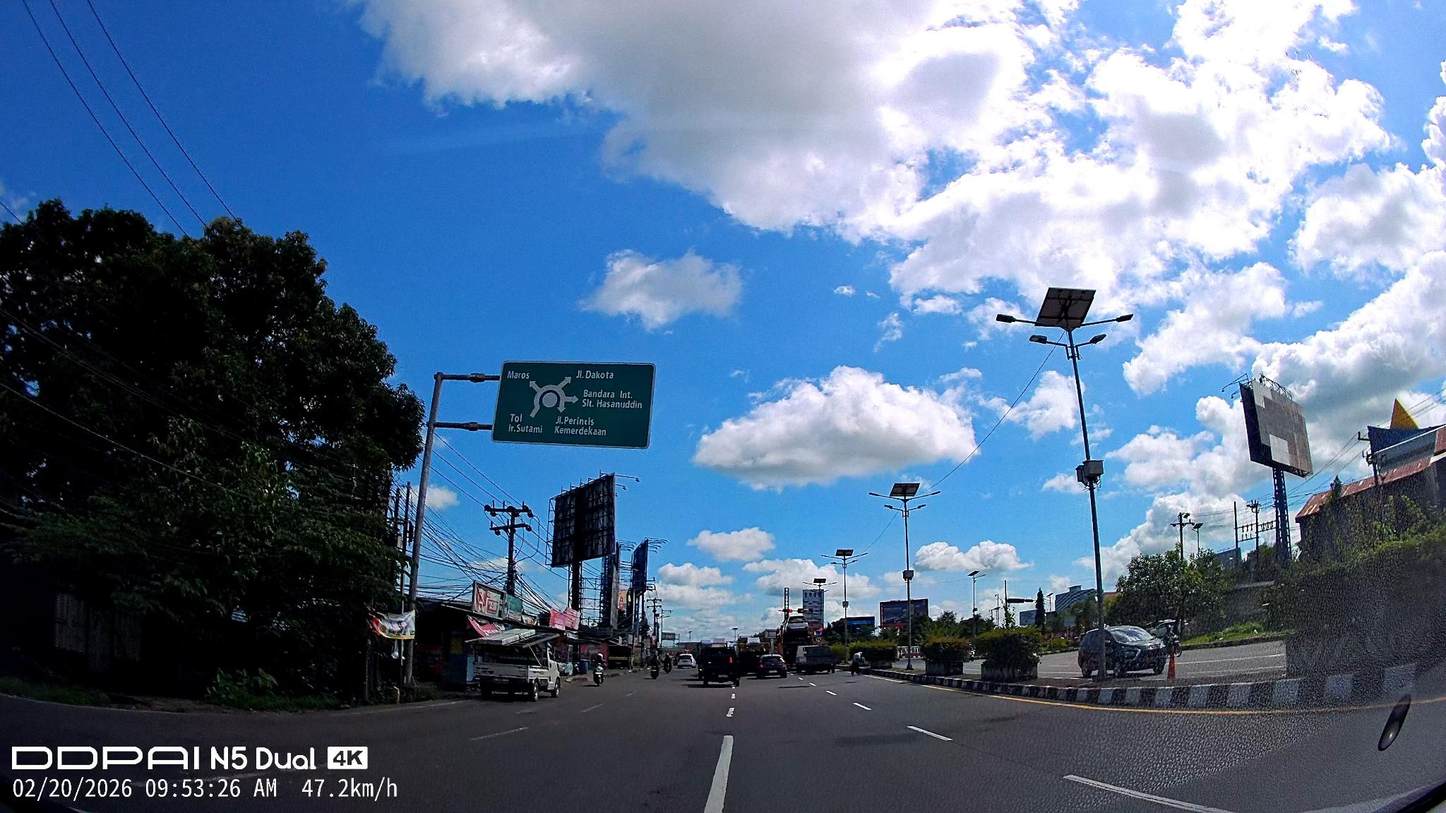rambu_teks: (490, 359, 657, 451)
